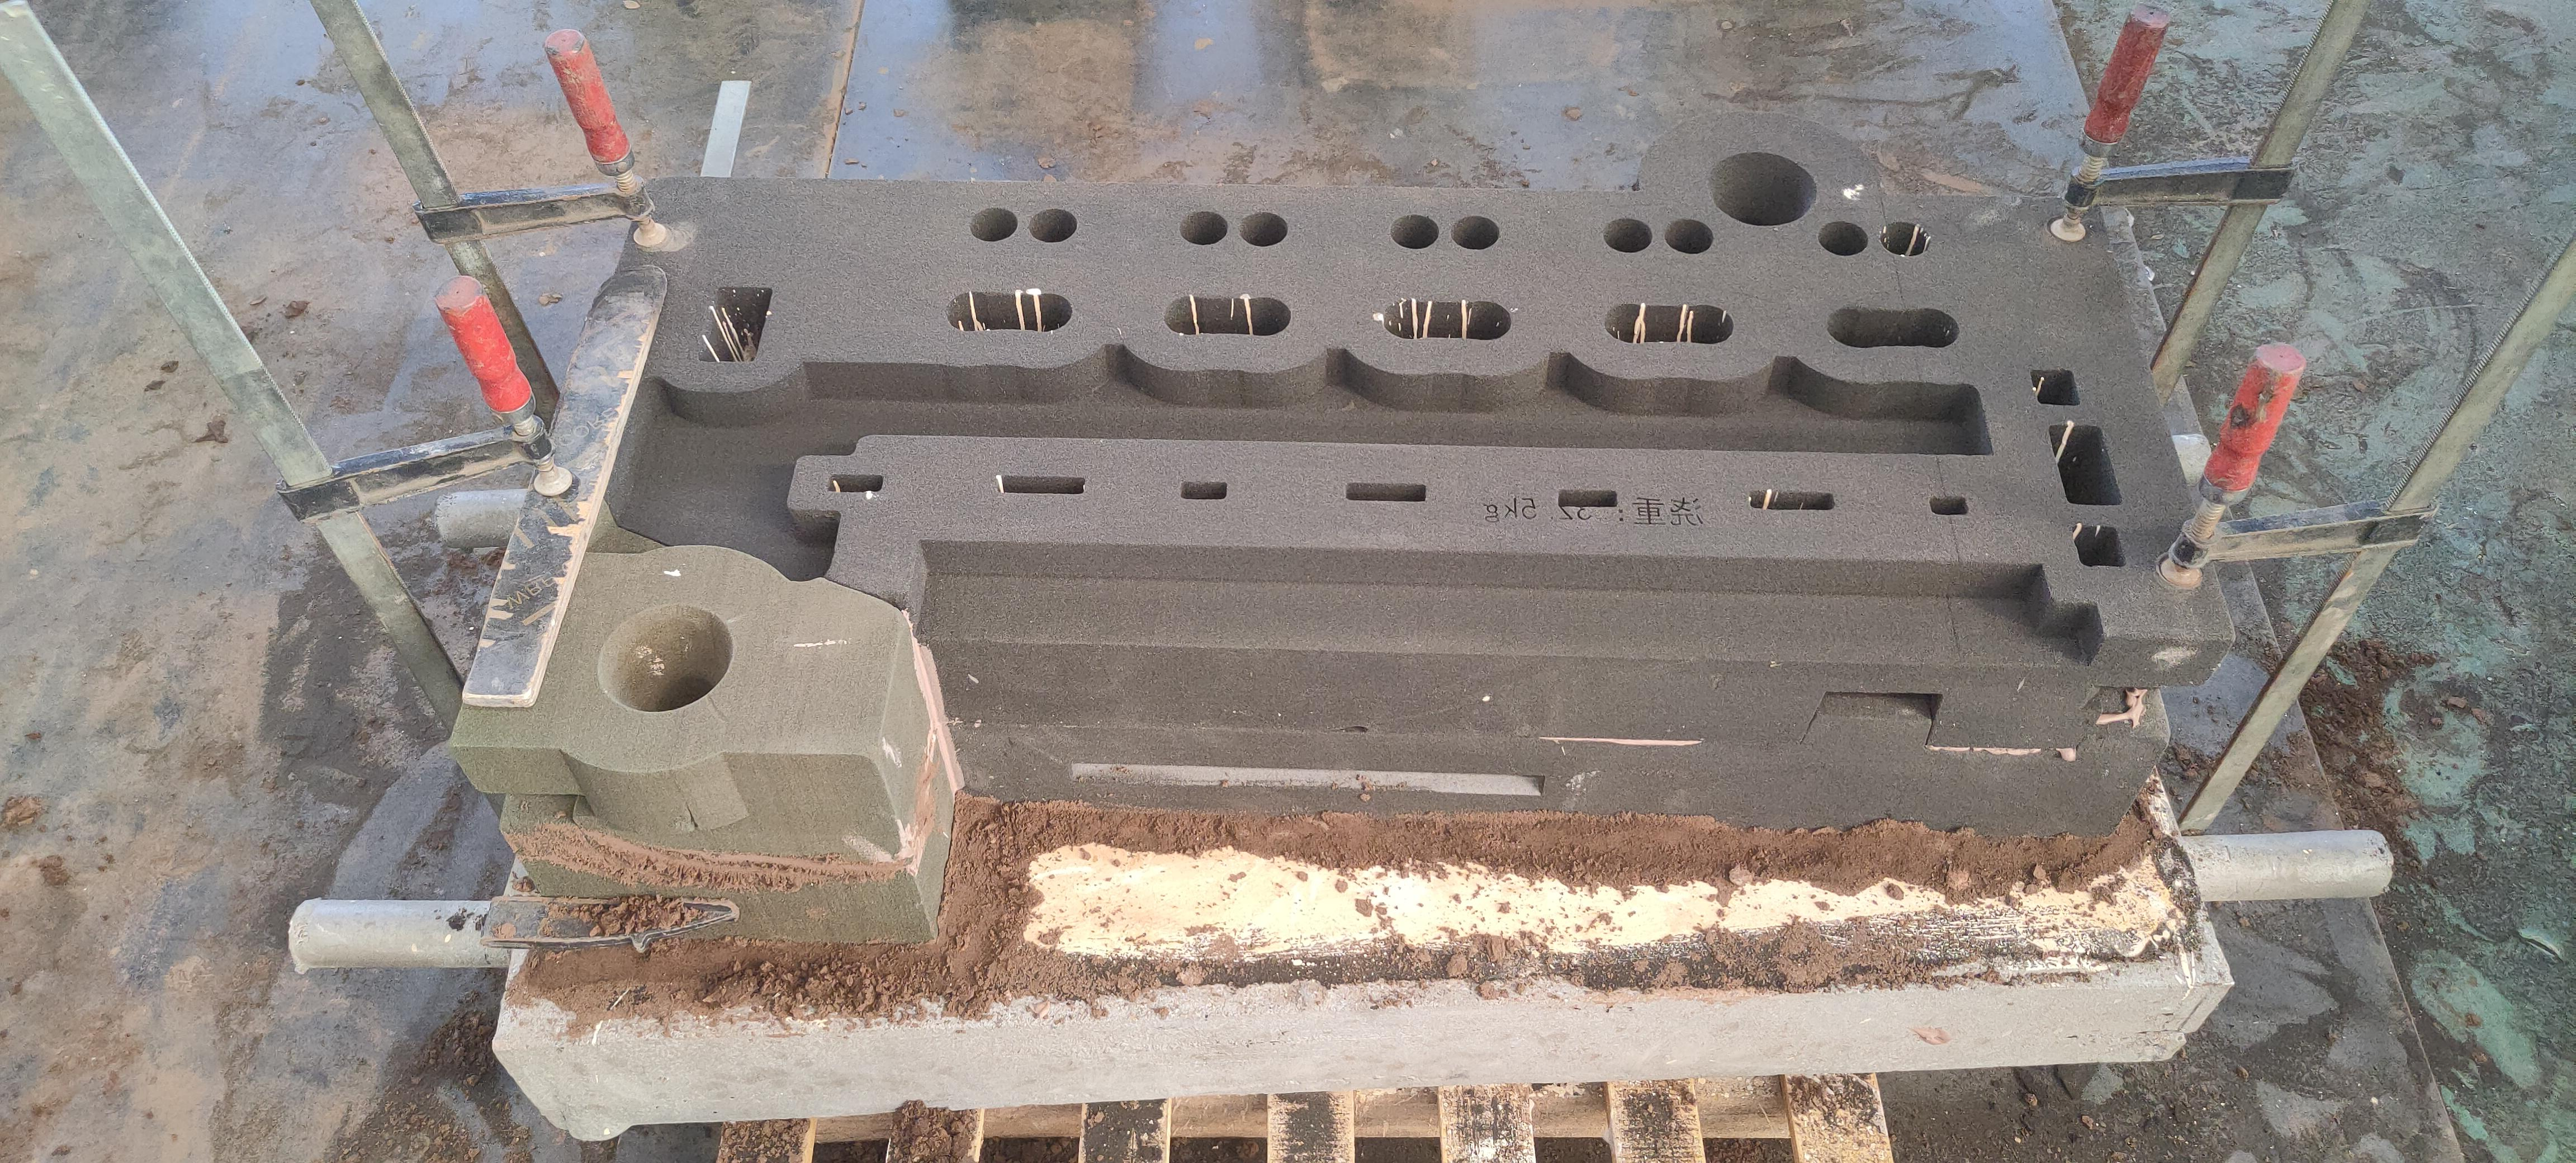pouring hole: (598, 603, 734, 713), (1709, 151, 1817, 228)
